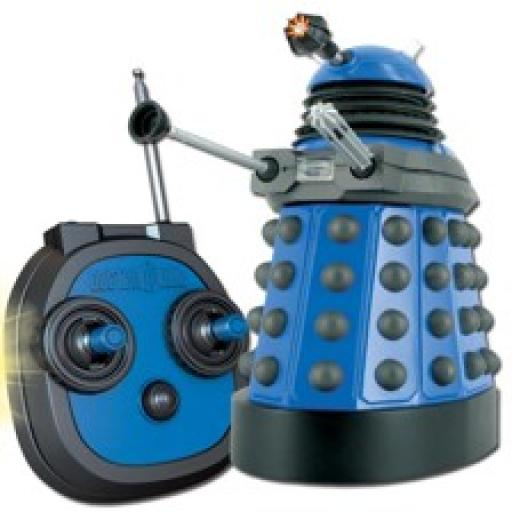dalek: (124, 8, 501, 490)
